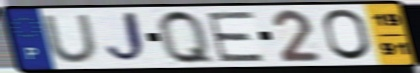2: (270, 8, 325, 64)
E: (204, 9, 267, 63)
J: (102, 10, 151, 66)
O: (321, 7, 374, 63)
Q: (155, 8, 220, 67)
U: (39, 12, 103, 65)
